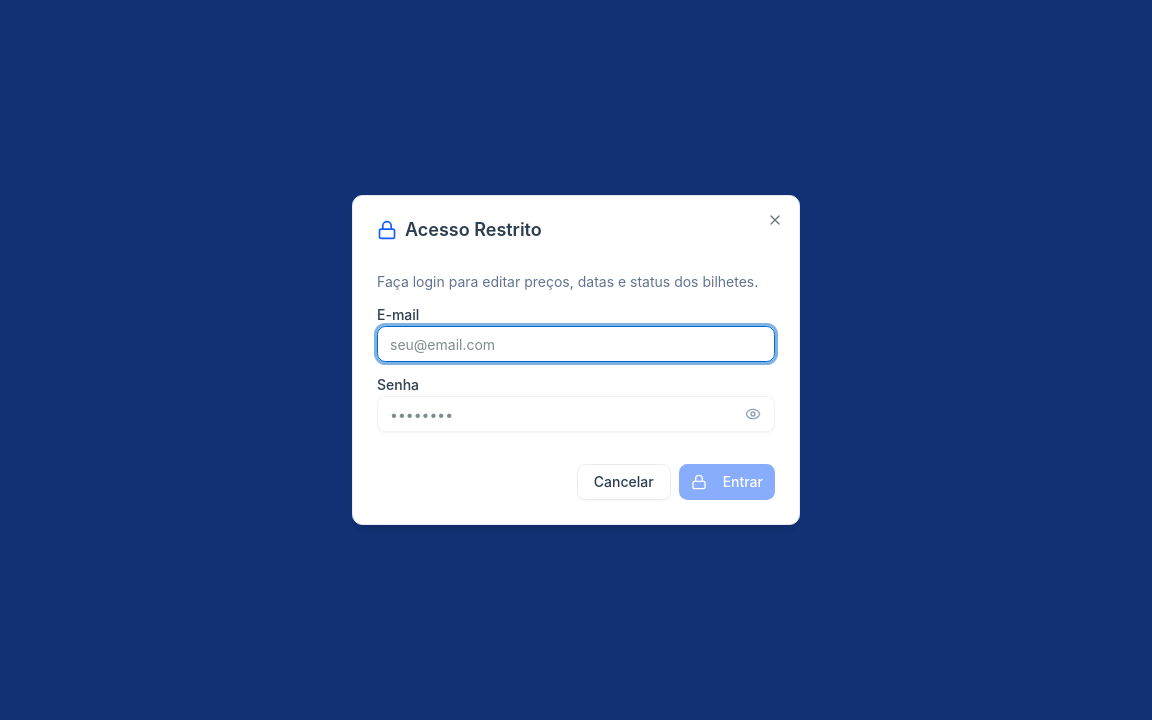
Test: LoginModal verified session › retains the server credential error and does not check a nonexistent session
Type "owner@example.com" into the field labelled "E-mail" at (576, 344), box [377,326,775,362]
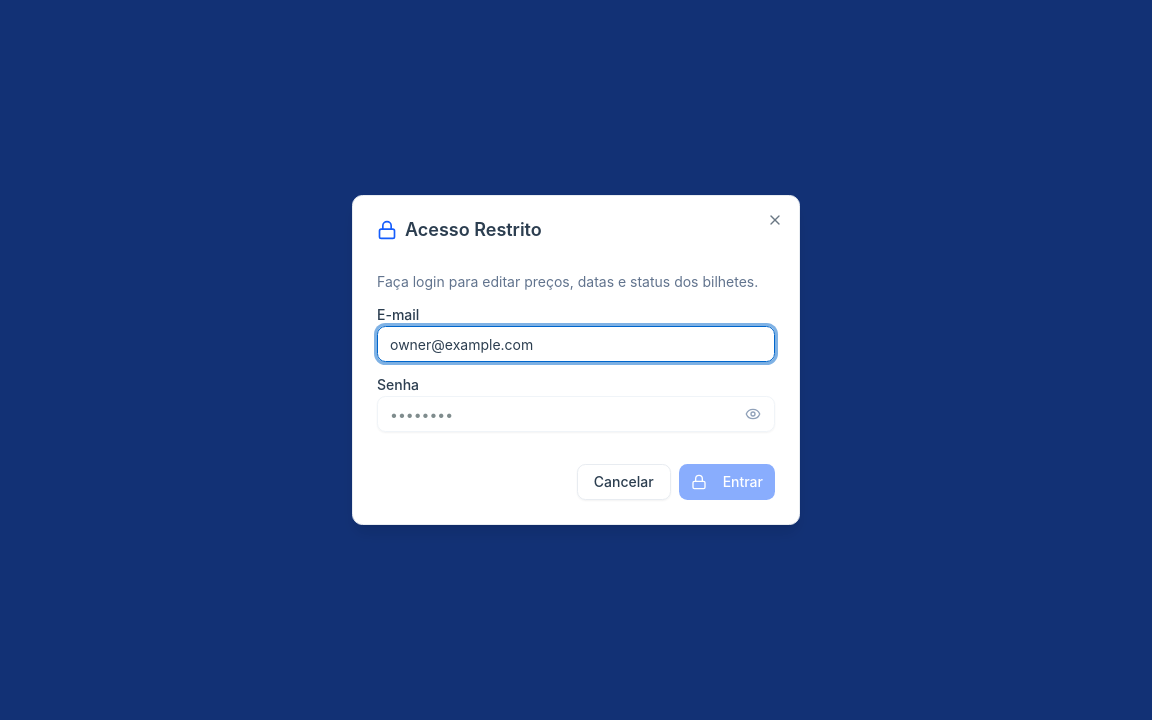
Type "test-password-only" into the password field labelled "Senha" at (576, 414), box [377,396,775,432]
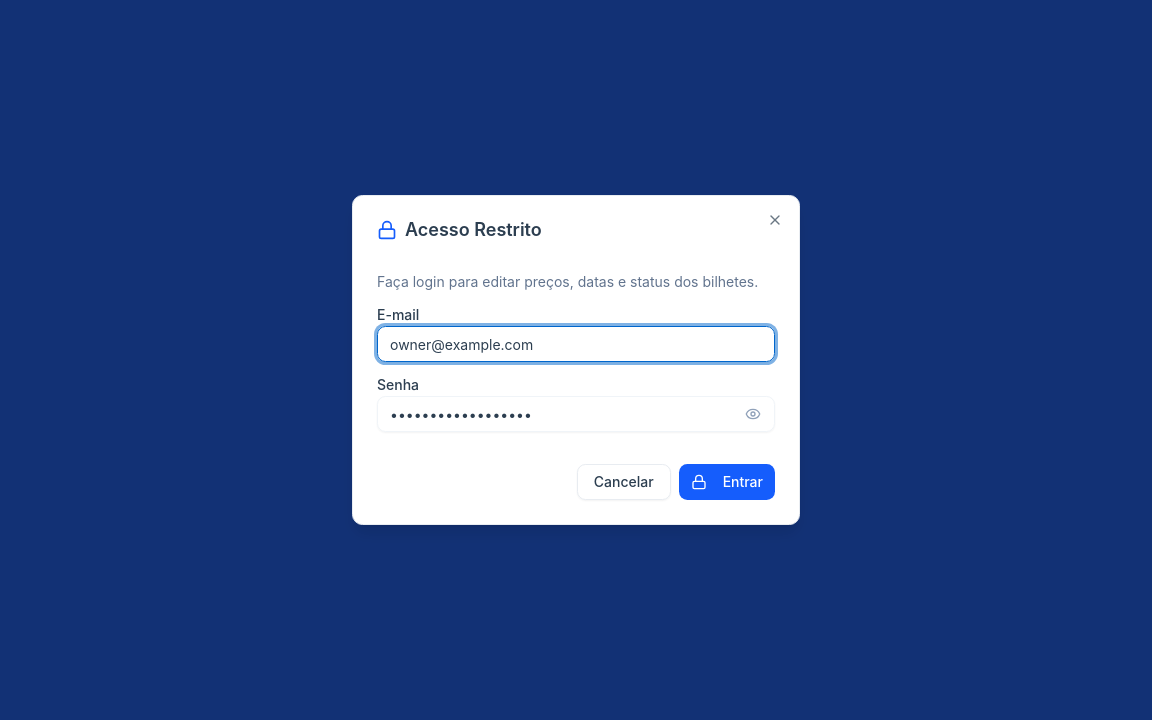
Click the button "Entrar" at (727, 482), box [679,464,775,500]
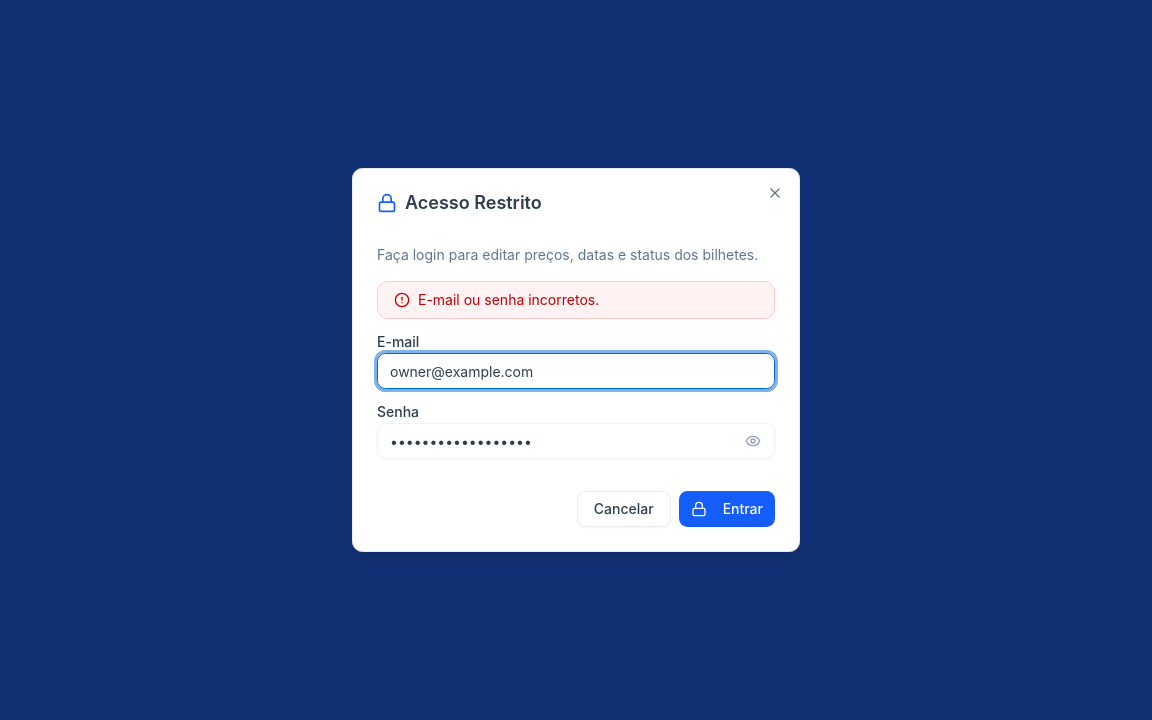
Expected: the message reads "E-mail ou senha incorretos.", [418,291,599,308]
